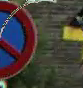No waiting: (1, 0, 40, 83)
